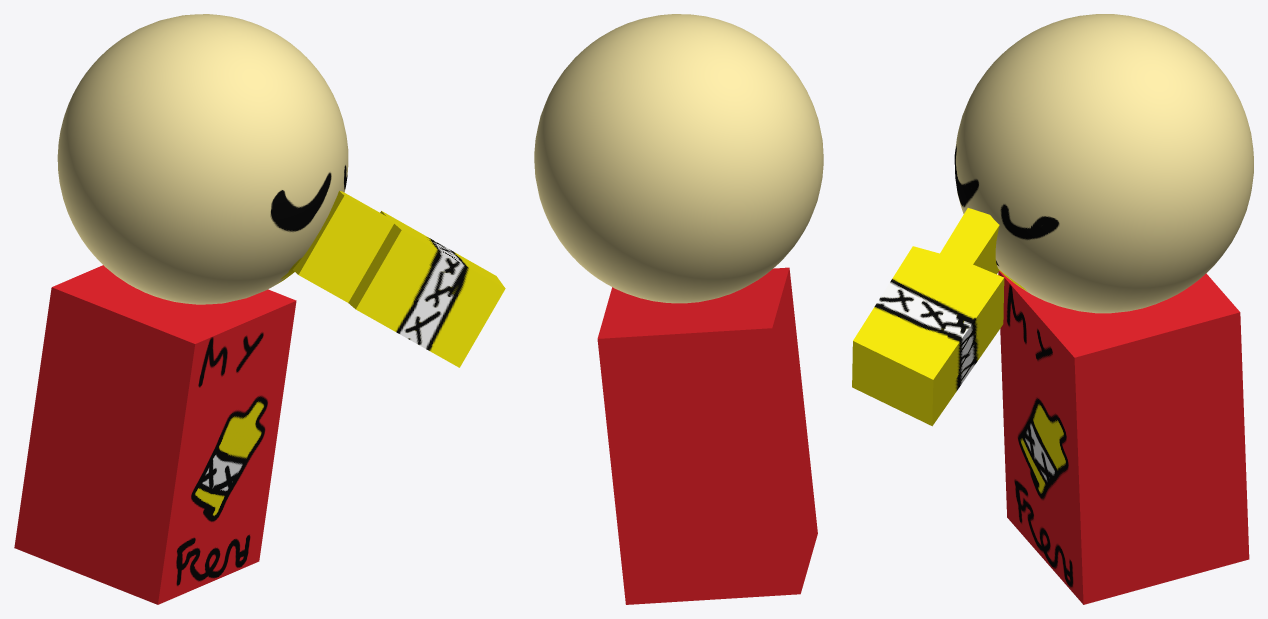
File: Red Guy v2 Drugs.glb
3 renders of one model, left to right at view 1: azimuth 30°, elevation 25°; view 2: azimuth 150°, elevation 25°; view 3: azimuth 270°, elevation 25°, orthographic. The views are drawn at different scales.
Parts seen in each view (by area): view 1: mesh_id39, mesh_id27, mesh_id68; view 2: mesh_id27, mesh_id39; view 3: mesh_id27, mesh_id39, mesh_id68.
Part boxes in pixels (bbox=[...]): mesh_id39: bbox=[14, 265, 296, 604]; mesh_id27: bbox=[57, 14, 348, 304]; mesh_id68: bbox=[292, 191, 505, 367]; mesh_id27: bbox=[534, 14, 823, 303]; mesh_id39: bbox=[597, 267, 817, 604]; mesh_id27: bbox=[954, 14, 1253, 313]; mesh_id39: bbox=[998, 271, 1249, 604]; mesh_id68: bbox=[852, 208, 1004, 426].
Size of the model in its own units: 0.2905 by 0.4076 by 0.2682.
Materials: 3 (3 with a texture image).
